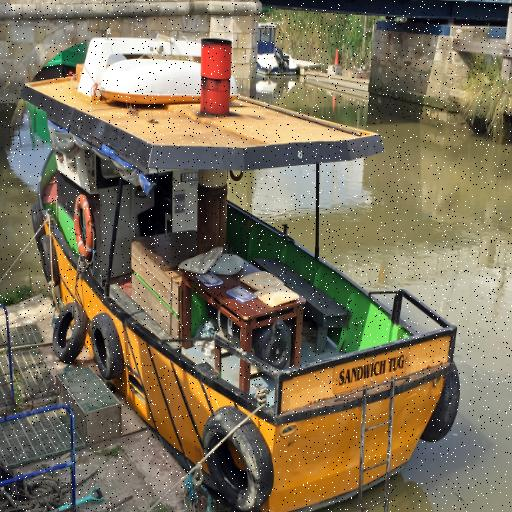tugboat: (16, 35, 468, 512)
